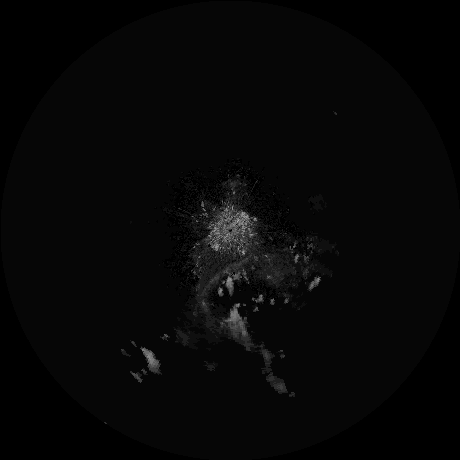frontgust: (202, 258, 247, 294)
